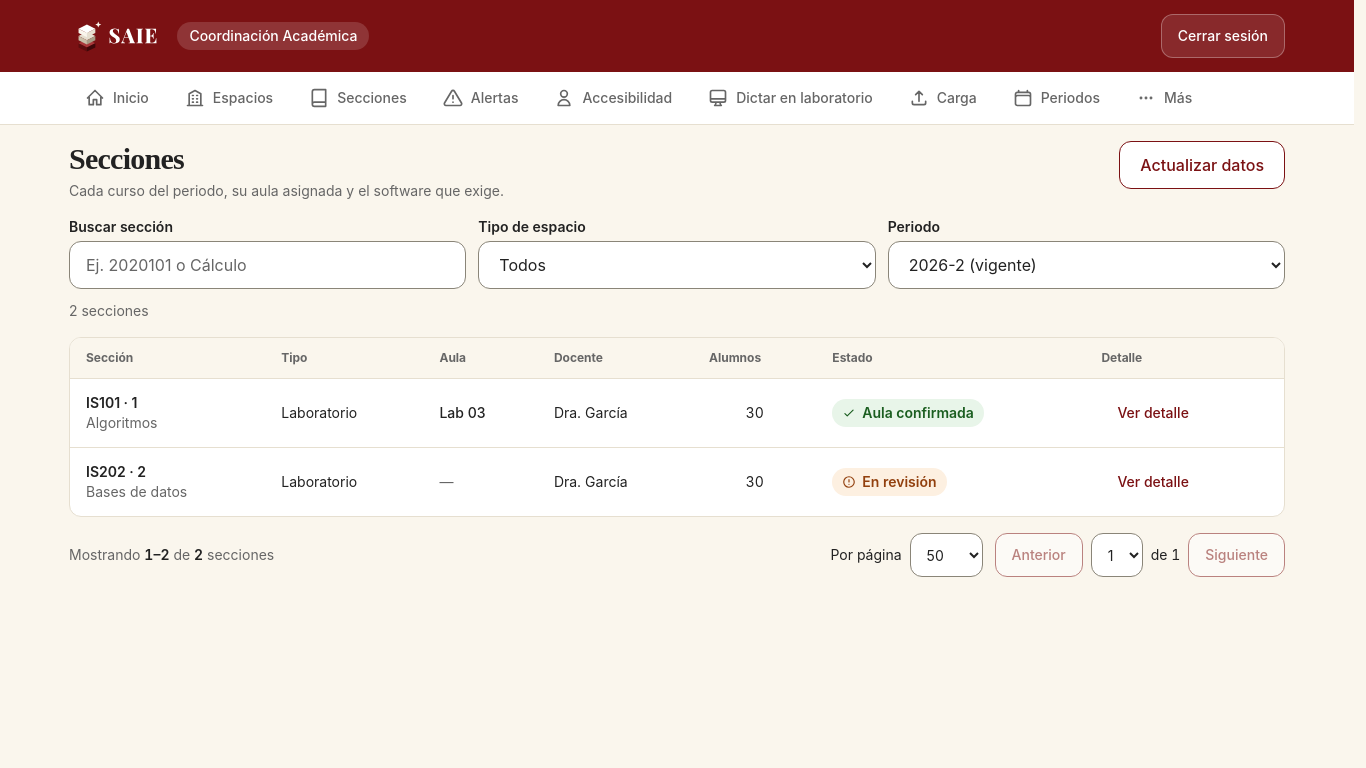
Scenario: Gestión individual de secciones (Issue 4.31) › abre el detalle de una sección y permite editarla
The width and height of the screenshot is (1366, 768).
Click the button named "Ver detalle de IS101 1". click: (1153, 413)
box: [1101,391,1205,435]
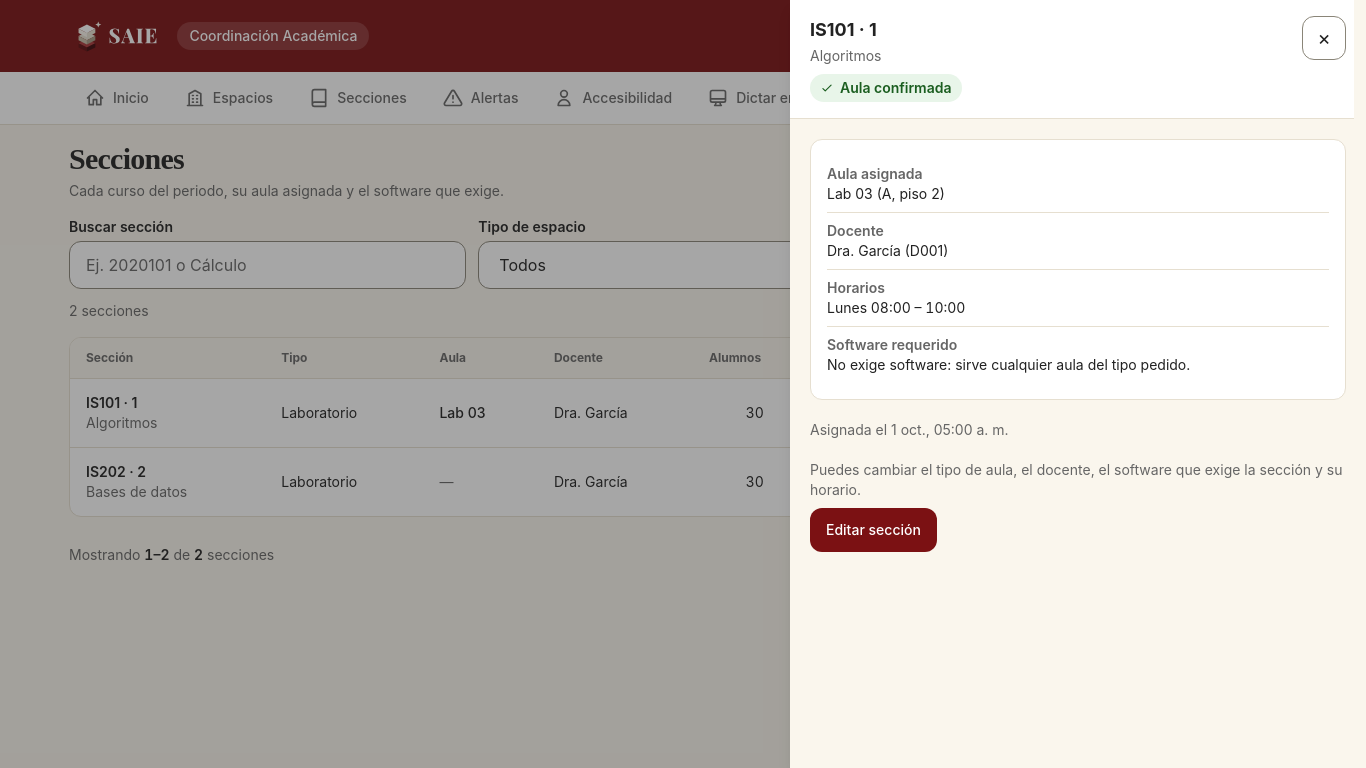
expect the text "Dra. García (D001)" is shown: met, box [827,242,948,259]
Click the button "Editar sección". click: (873, 530)
box: [810,508,937,552]
(page scrolled)
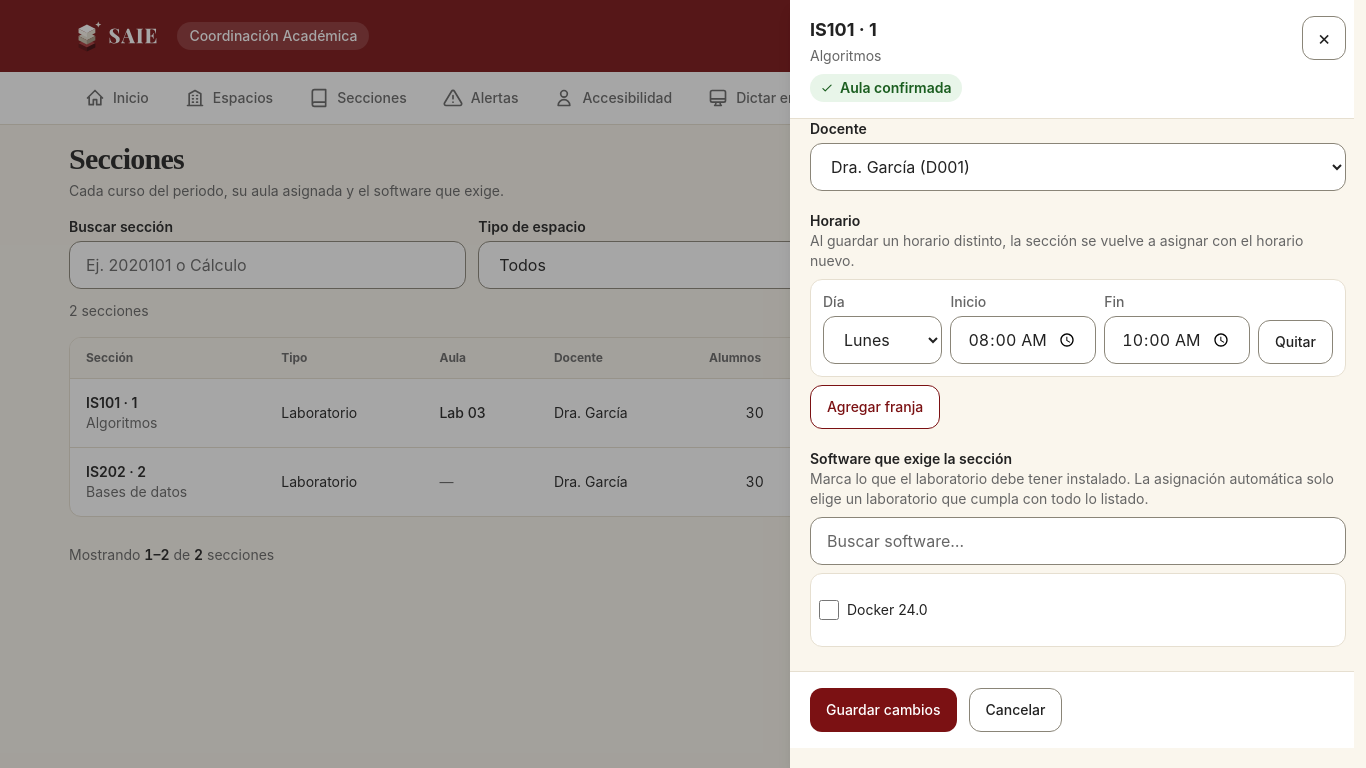
expect the text "Software que exige la sección" is shown: met, box [810,449,1012,469]
expect the dropdown labelled "Docente" is shown: met, box [810,143,1346,191]
